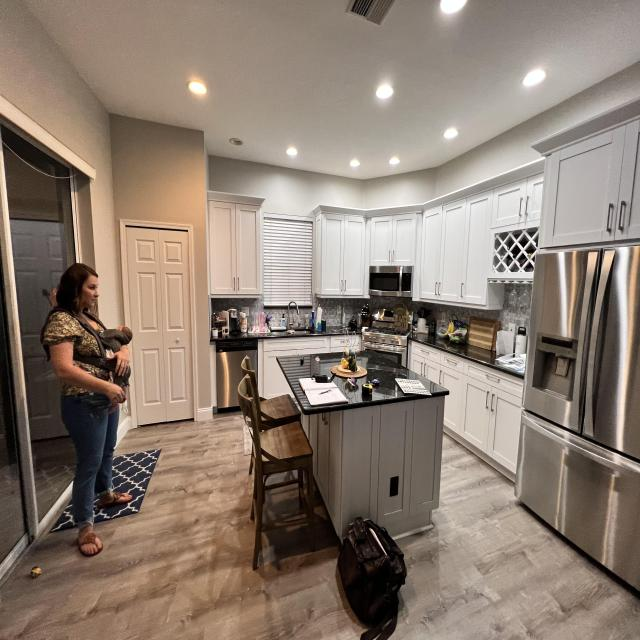Appliance_Dishwasher: (216, 344, 257, 413)
Appliance_Fridge: (515, 245, 640, 594)
Appliance_Microwave: (370, 266, 412, 296)
Appliance_Oven: (362, 306, 409, 367)
Appliance_Sink: (271, 301, 307, 337)
Cabinet_Shaker: (313, 116, 640, 309), (408, 342, 523, 472), (259, 337, 360, 400), (206, 195, 263, 297)
Countertop_Granite: (276, 351, 449, 415), (414, 333, 496, 365), (237, 326, 358, 339)
